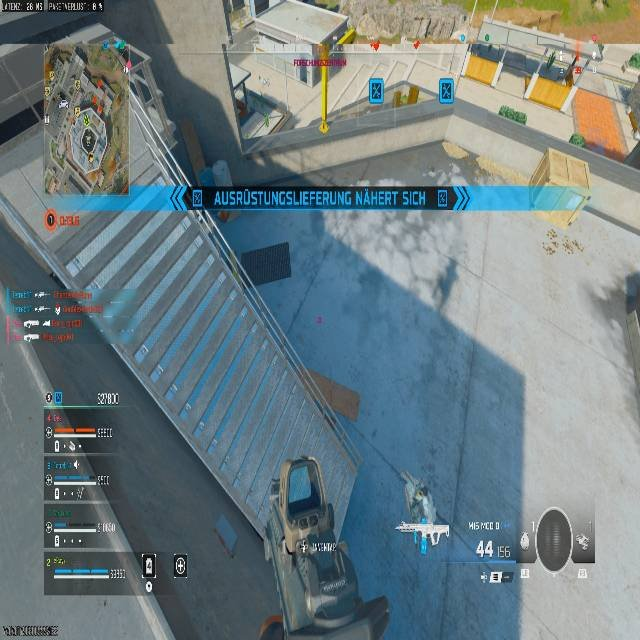player: (255, 452, 393, 639)
